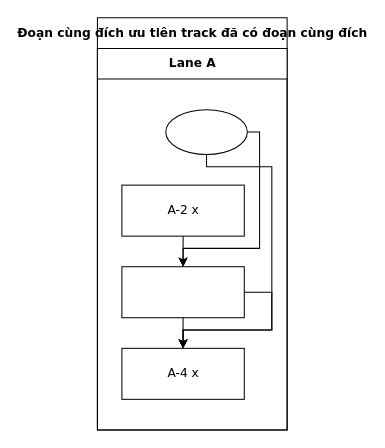
This 385x448 diagram has some shape labels left out. Each missing label, with the centre of its shape:
A-1 x: point (206, 132)
A-3 x: point (182, 292)
